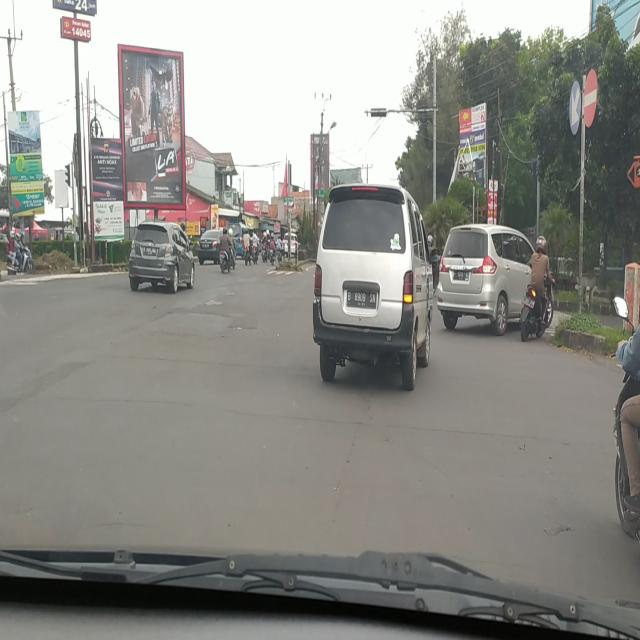Sewer Cover: (42, 388, 611, 450)
